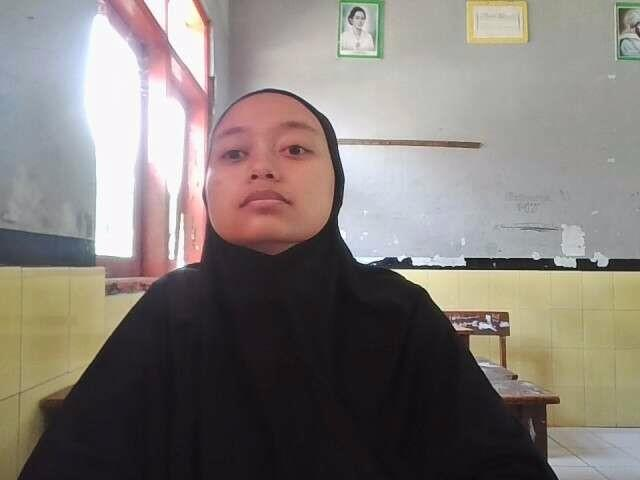cheating: (24, 79, 580, 480)
